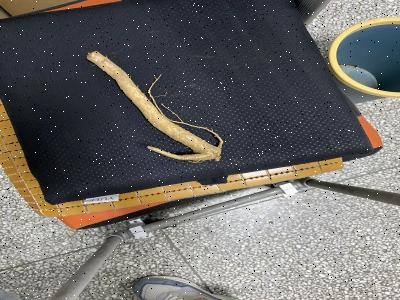Root: (87, 51, 223, 162)
